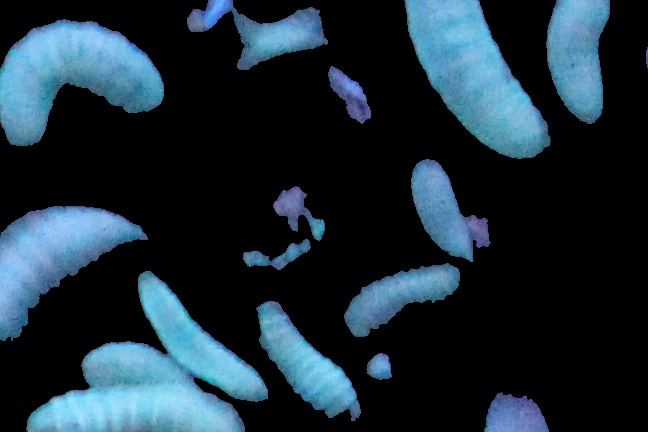larvae: (389, 1, 551, 176), (1, 198, 145, 352), (125, 266, 278, 410), (1, 8, 165, 141), (328, 242, 472, 345), (251, 303, 369, 421), (393, 152, 502, 272), (23, 382, 254, 432), (545, 1, 614, 122), (64, 338, 196, 393)
